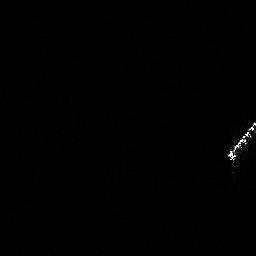ship: (218, 119, 256, 166)
